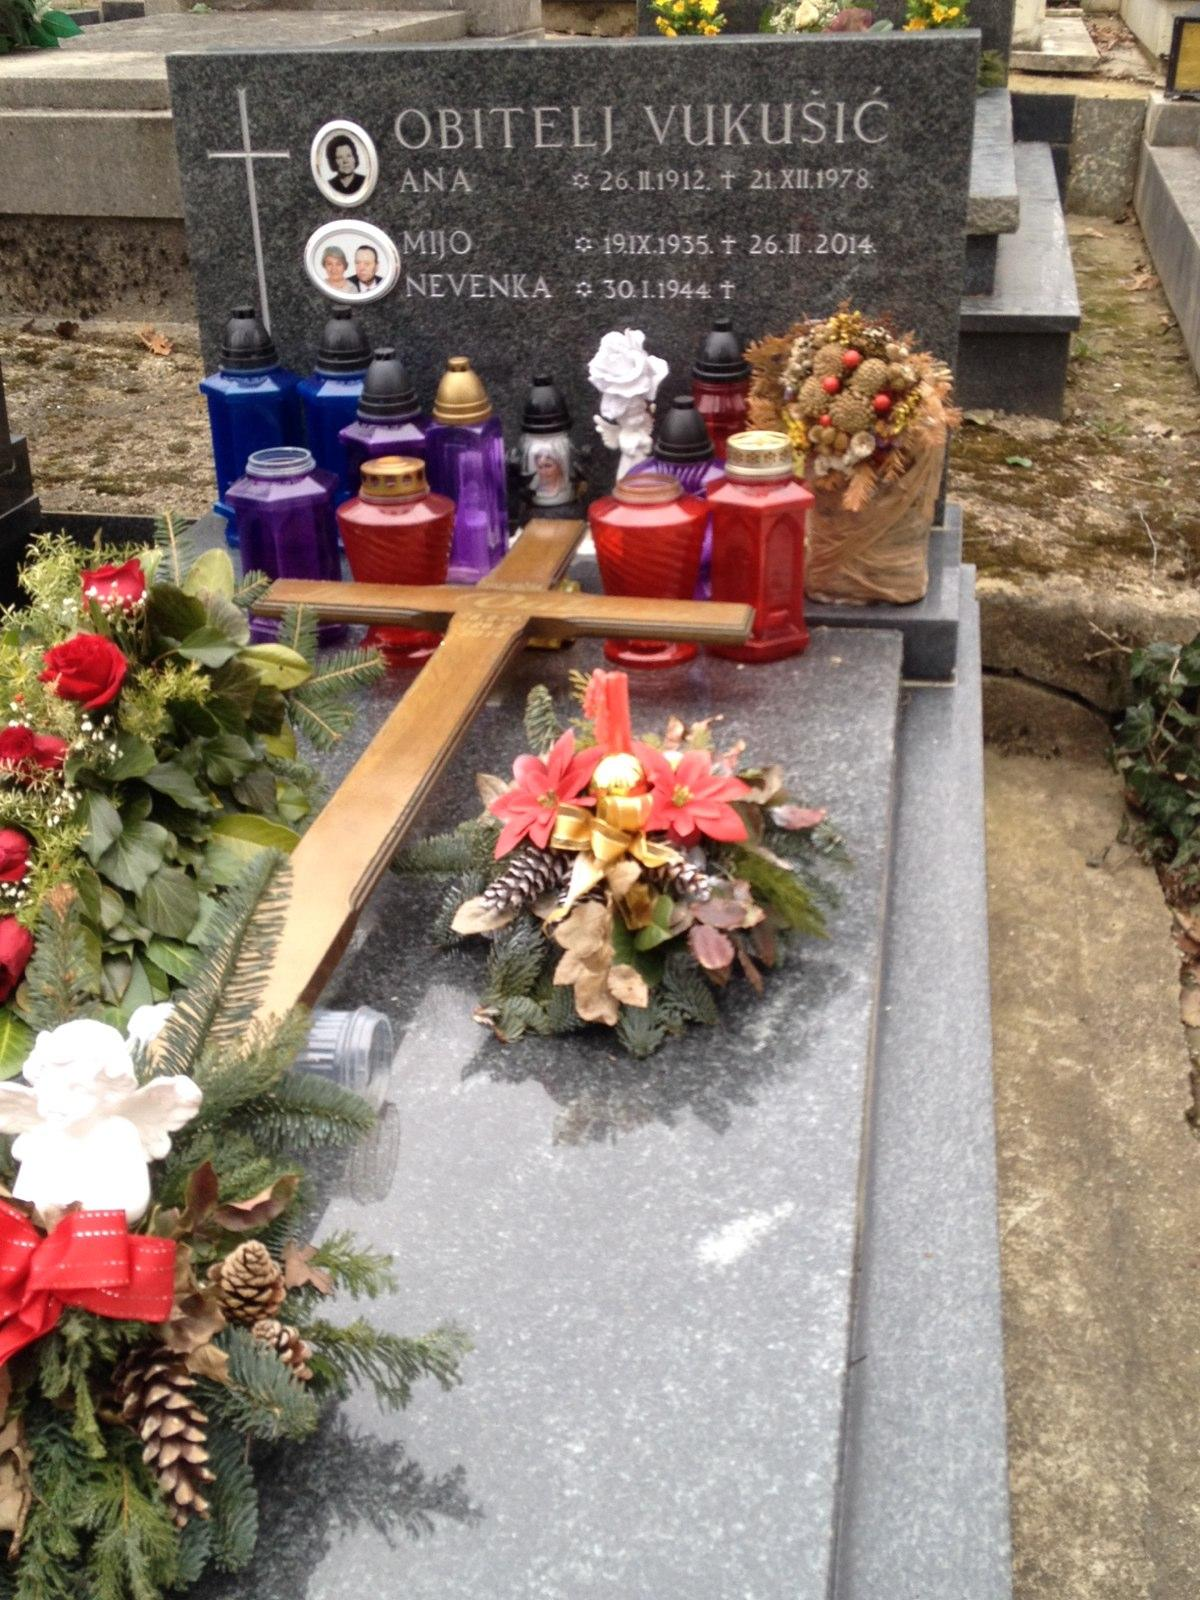vault: (49, 20, 1055, 1585)
